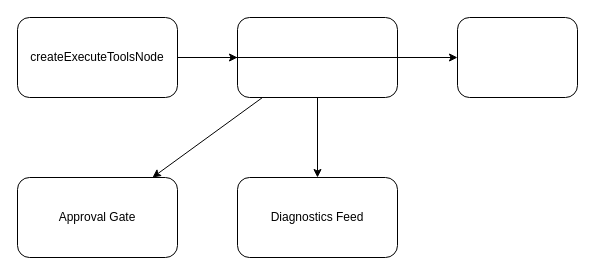
The diagram is 595 pixels wide and 275 high, and some of its shapes have lost their labels. The shapes that lost their labels are listed below. From the top down, each one's box as (x1, y1, x2, y2) in pixels, then its label:
(236, 16, 398, 98): executeSingleTool
(456, 16, 578, 98): Tool Filter
